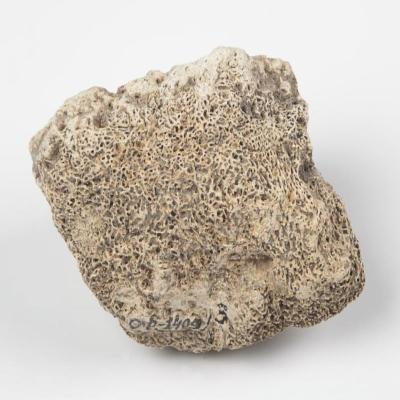natural_science_collection: (28, 46, 366, 356)
